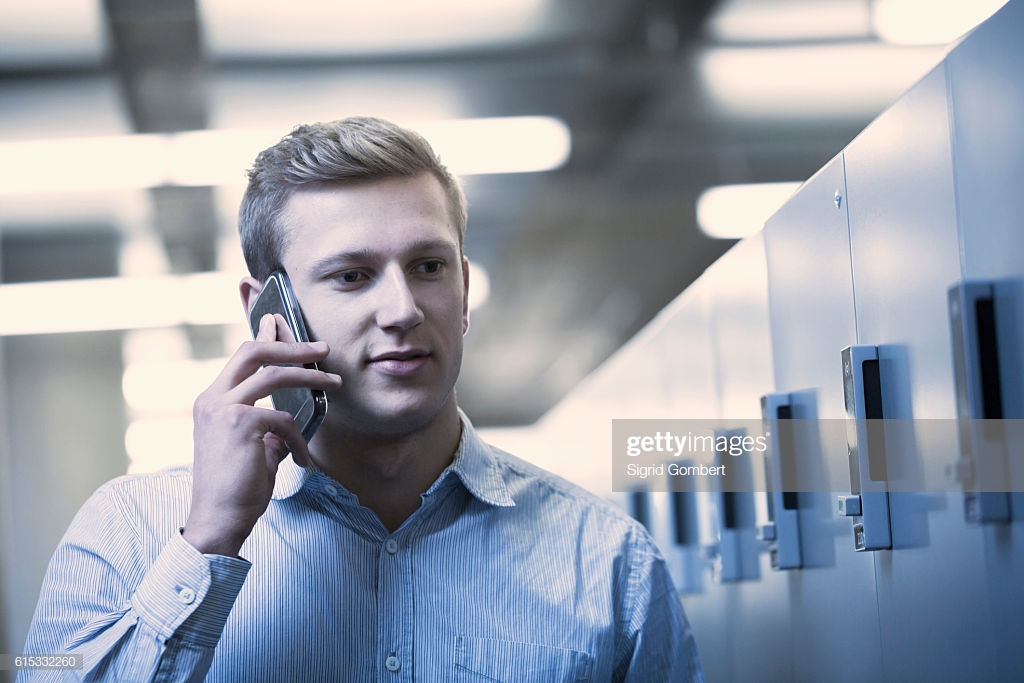phone: (238, 279, 346, 428)
talk: (188, 232, 466, 516)
